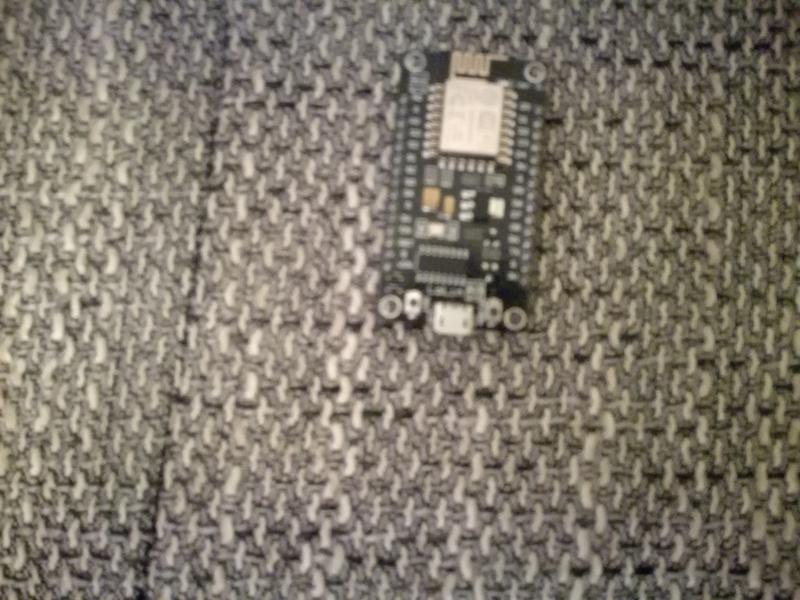ESP8266: (374, 45, 546, 346)
